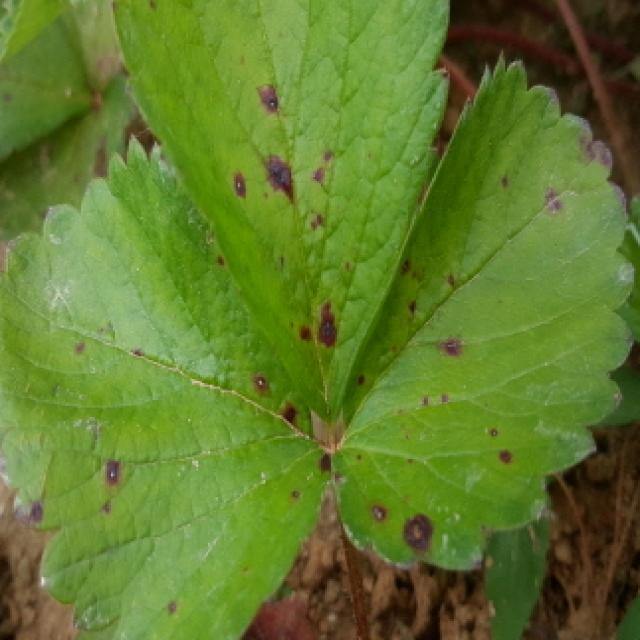Leaf Spot: (0, 134, 330, 640), (331, 50, 637, 573), (109, 0, 452, 424), (0, 69, 159, 240)
